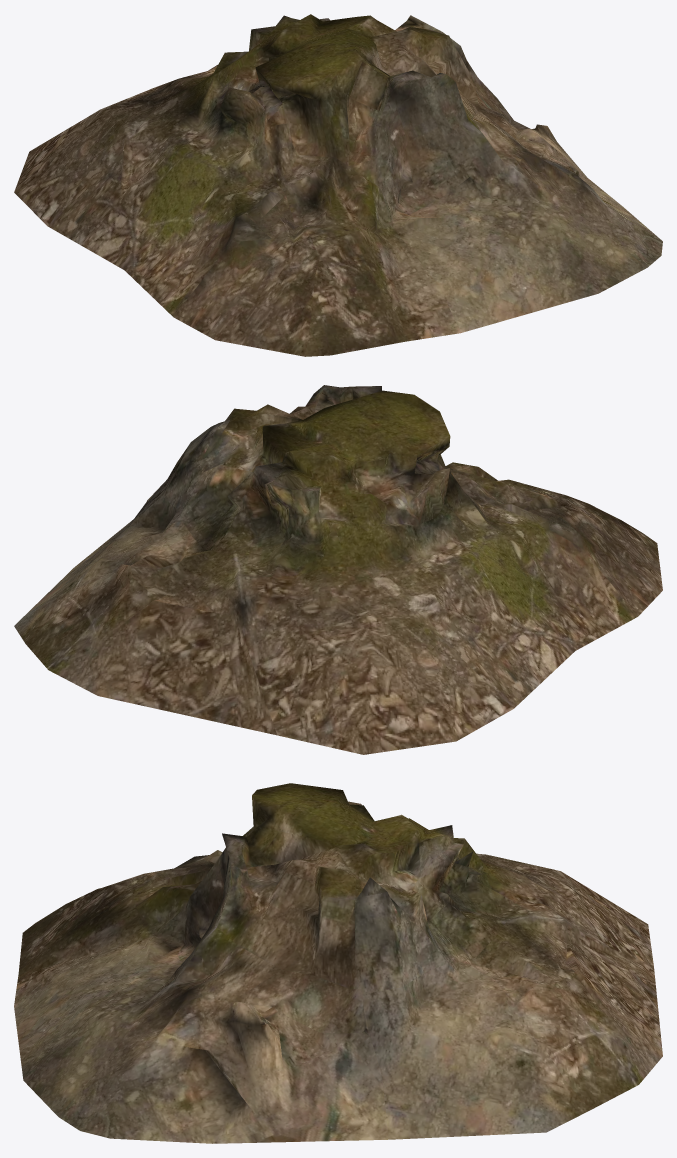
Rendered from stump_a.glb.
The picture shows the model from 3 angles, top to bottom: view 1: azimuth 30°, elevation 25°; view 2: azimuth 150°, elevation 25°; view 3: azimuth 270°, elevation 25°; orthographic projection. The views are drawn at different scales.
Visible parts, largest first — view 1: tree_stump_01; view 2: tree_stump_01; view 3: tree_stump_01.
Part boxes in pixels (x1,y1,x2,y2): tree_stump_01: (14,14,662,356); tree_stump_01: (14,385,662,754); tree_stump_01: (14,783,662,1143).
Size of the model in its own units: 1.42 by 0.57 by 1.59.
1 material, 1 textured.
